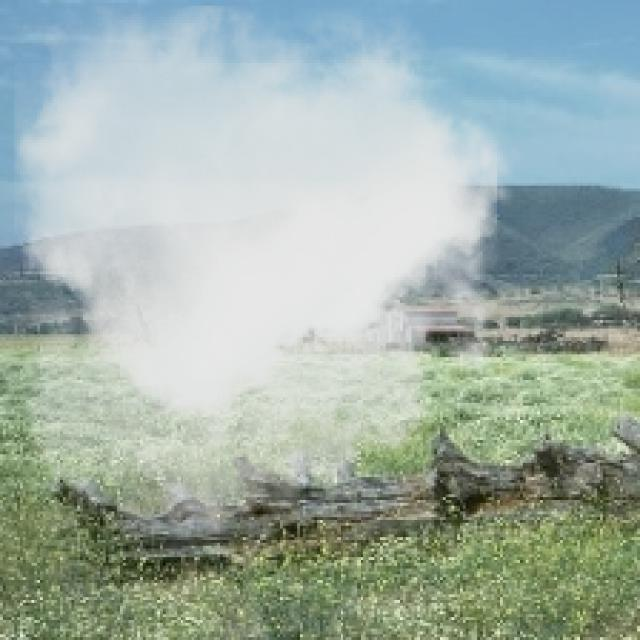Smoke: (14, 6, 529, 560)
